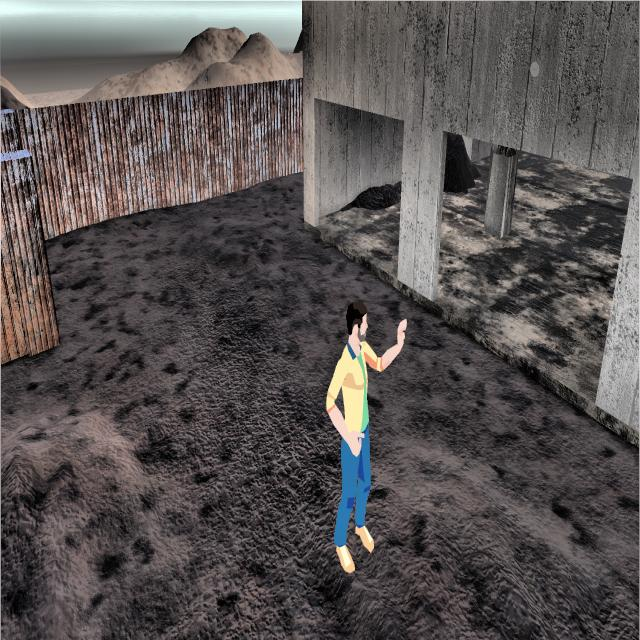good: (311, 268, 411, 596)
